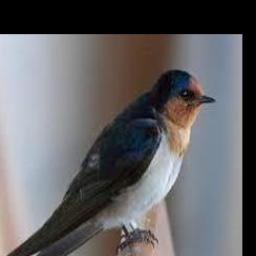Swallow: (0, 68, 216, 256)
